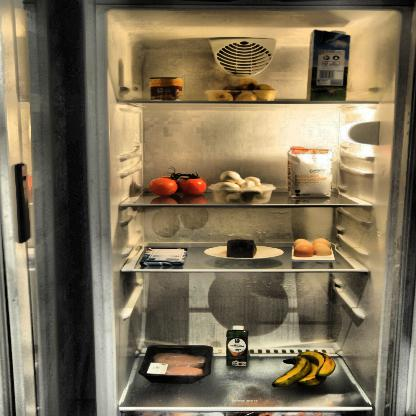banana: (273, 350, 339, 388)
cheese: (224, 239, 262, 259)
chicken: (150, 349, 212, 378)
chocolate: (140, 245, 186, 267)
corn: (149, 76, 185, 103)
eggs: (291, 236, 336, 258)
heavy_cream: (225, 324, 250, 370)
milk: (307, 27, 354, 103)
mushrooms: (210, 170, 275, 204)
potato: (212, 78, 278, 101)
tomato: (150, 174, 208, 196)
